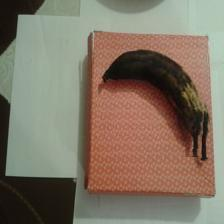Banana Rotten: (98, 36, 210, 159)
